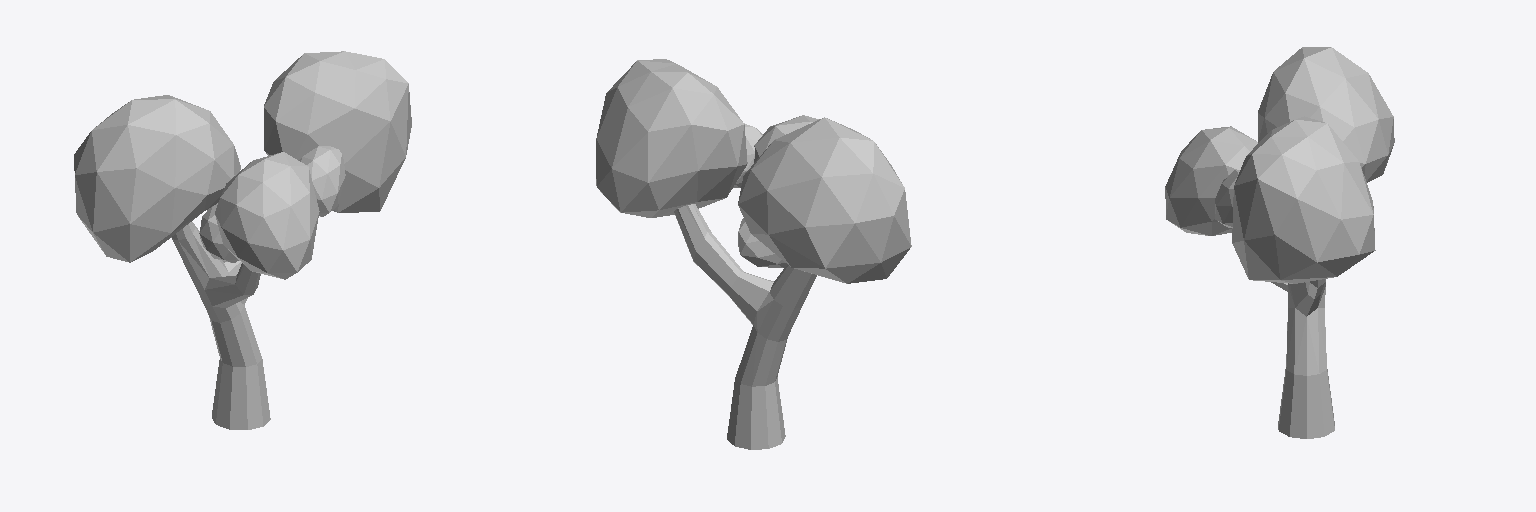
The model's file is three_balls_tree_green.obj.
3 views of the same model, side by side, from view 1: azimuth 30°, elevation 25°; view 2: azimuth 150°, elevation 25°; view 3: azimuth 270°, elevation 25° (orthographic).
Parts seen in each view (by area): view 1: t2-green_Icosphere.016; view 2: t2-green_Icosphere.016; view 3: t2-green_Icosphere.016.
Part boxes in pixels (x1,y1,x2,y2): t2-green_Icosphere.016: (74,51,411,429); t2-green_Icosphere.016: (596,59,911,449); t2-green_Icosphere.016: (1165,47,1394,438).
Bounding box in the file's own units: 6.73 × 7.18 × 4.35.